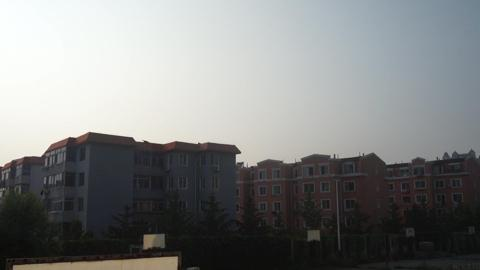UAV: (142, 140, 150, 145)
